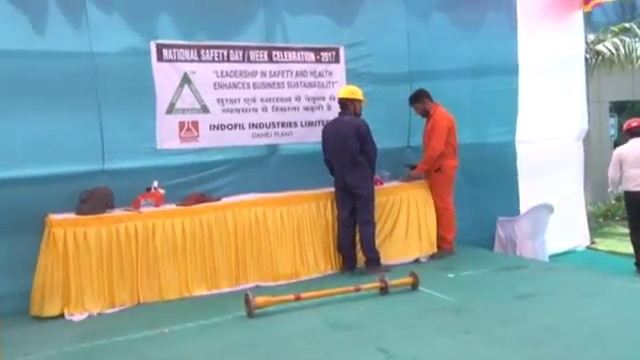helmet: (335, 82, 367, 102), (622, 116, 640, 134)
helmet_off: (407, 87, 436, 115)
helmet_on: (334, 80, 368, 120), (619, 116, 640, 143)
person: (320, 82, 393, 275), (406, 88, 460, 263), (607, 116, 640, 274)
